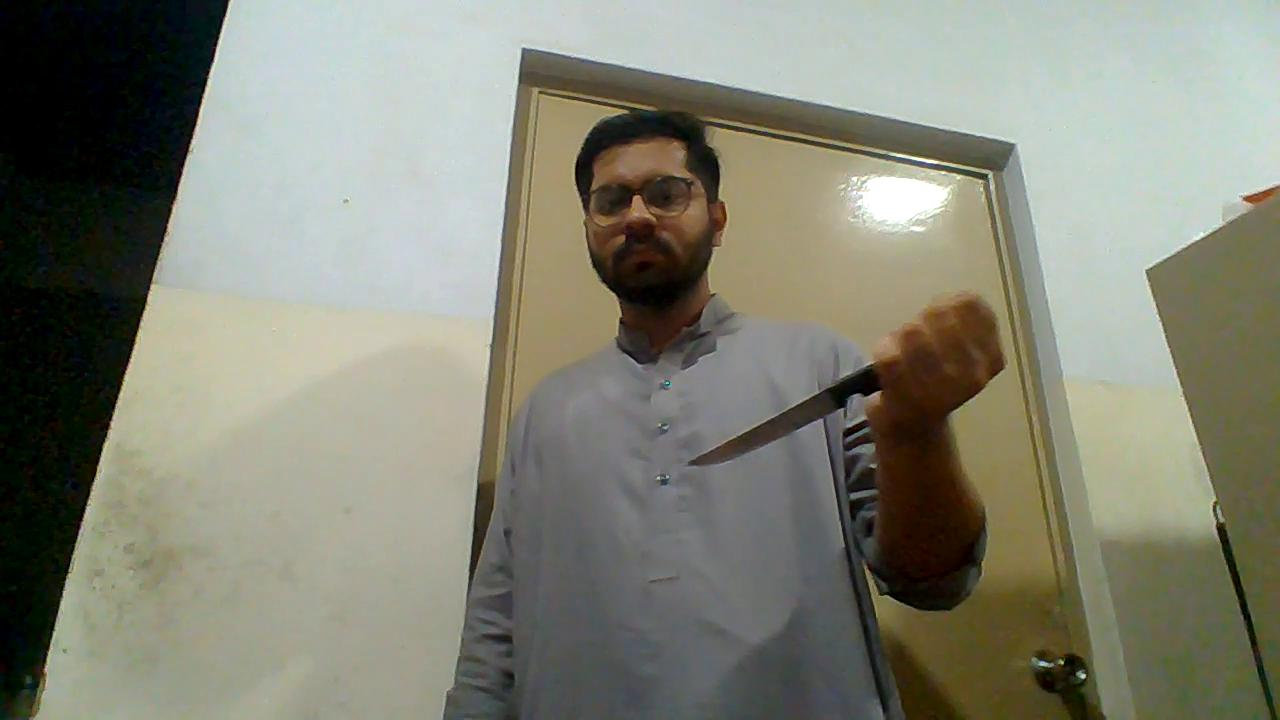criminal: (437, 110, 1004, 720)
weapon: (684, 360, 886, 473)
